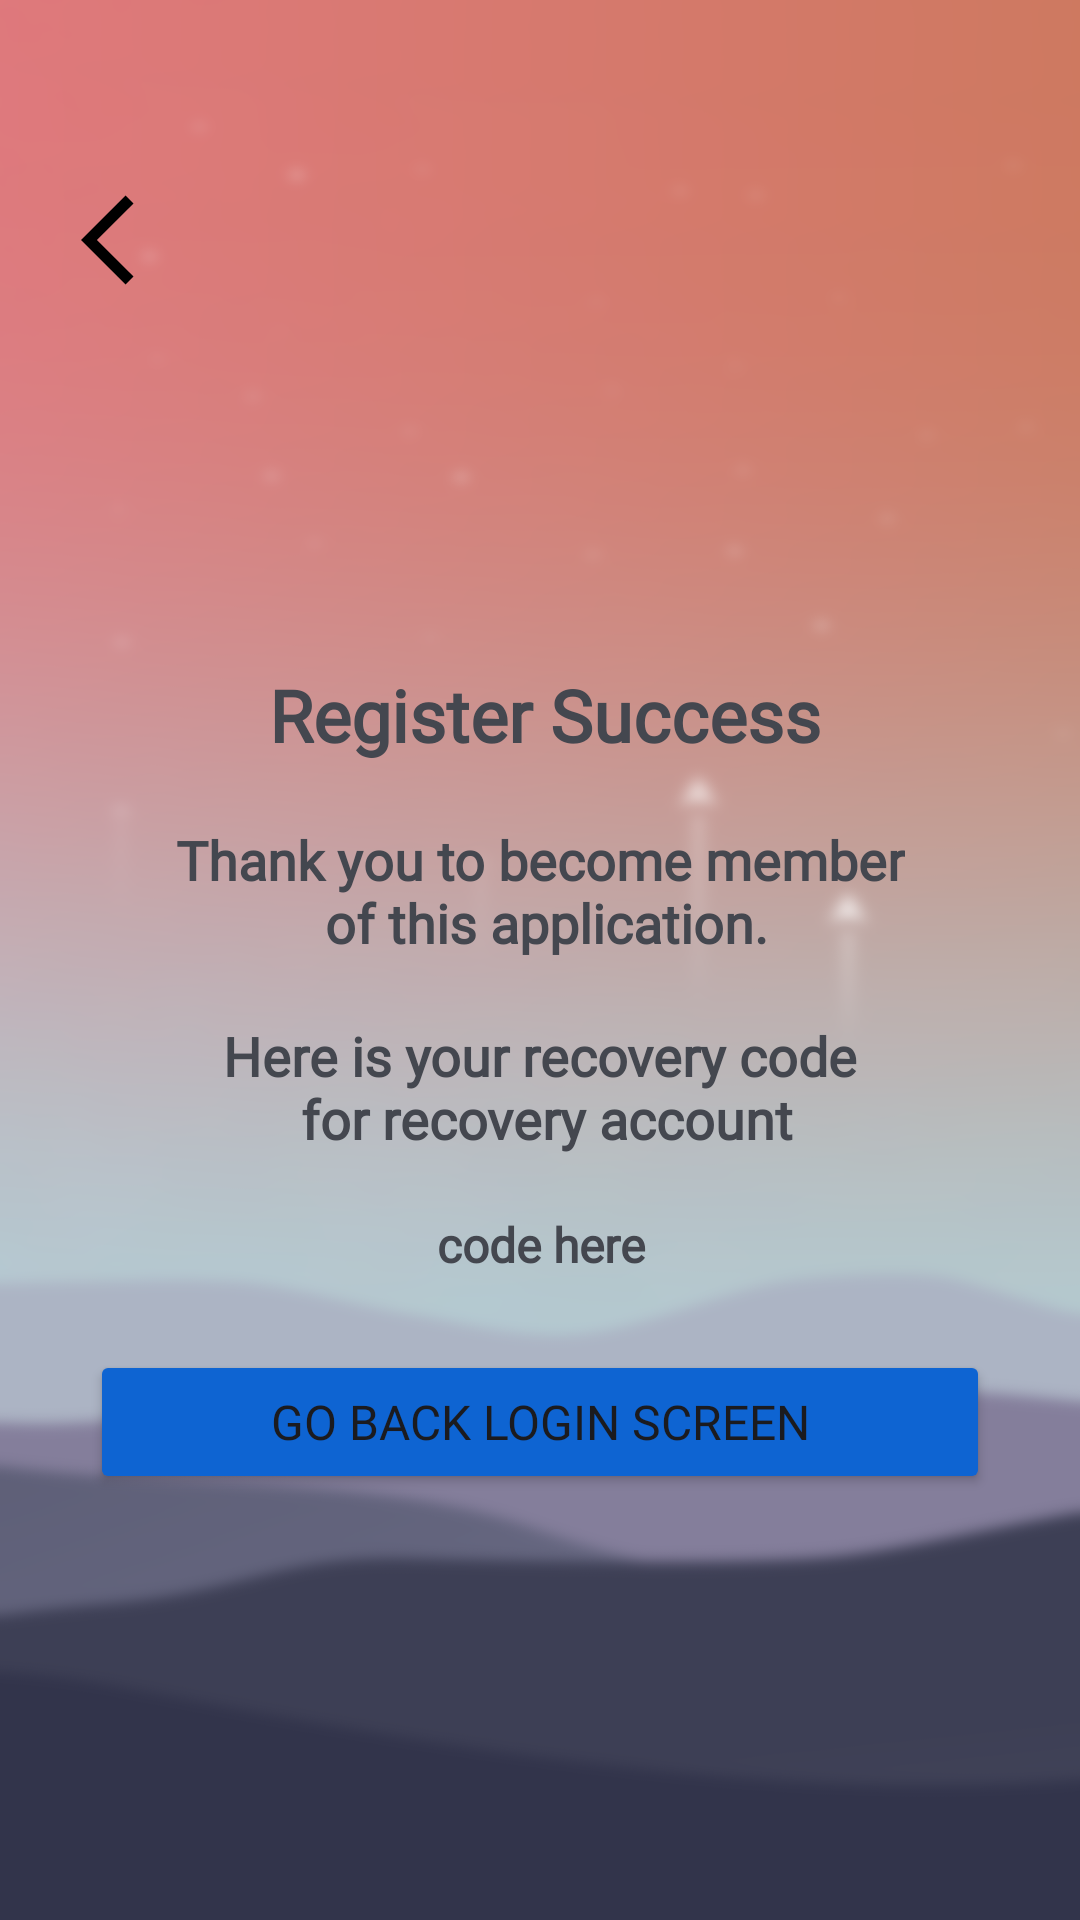

Screen size 1080*1920. Icon name, then its center in pixels as (x=x, y=y):
arrow back: (x=107, y=240)
